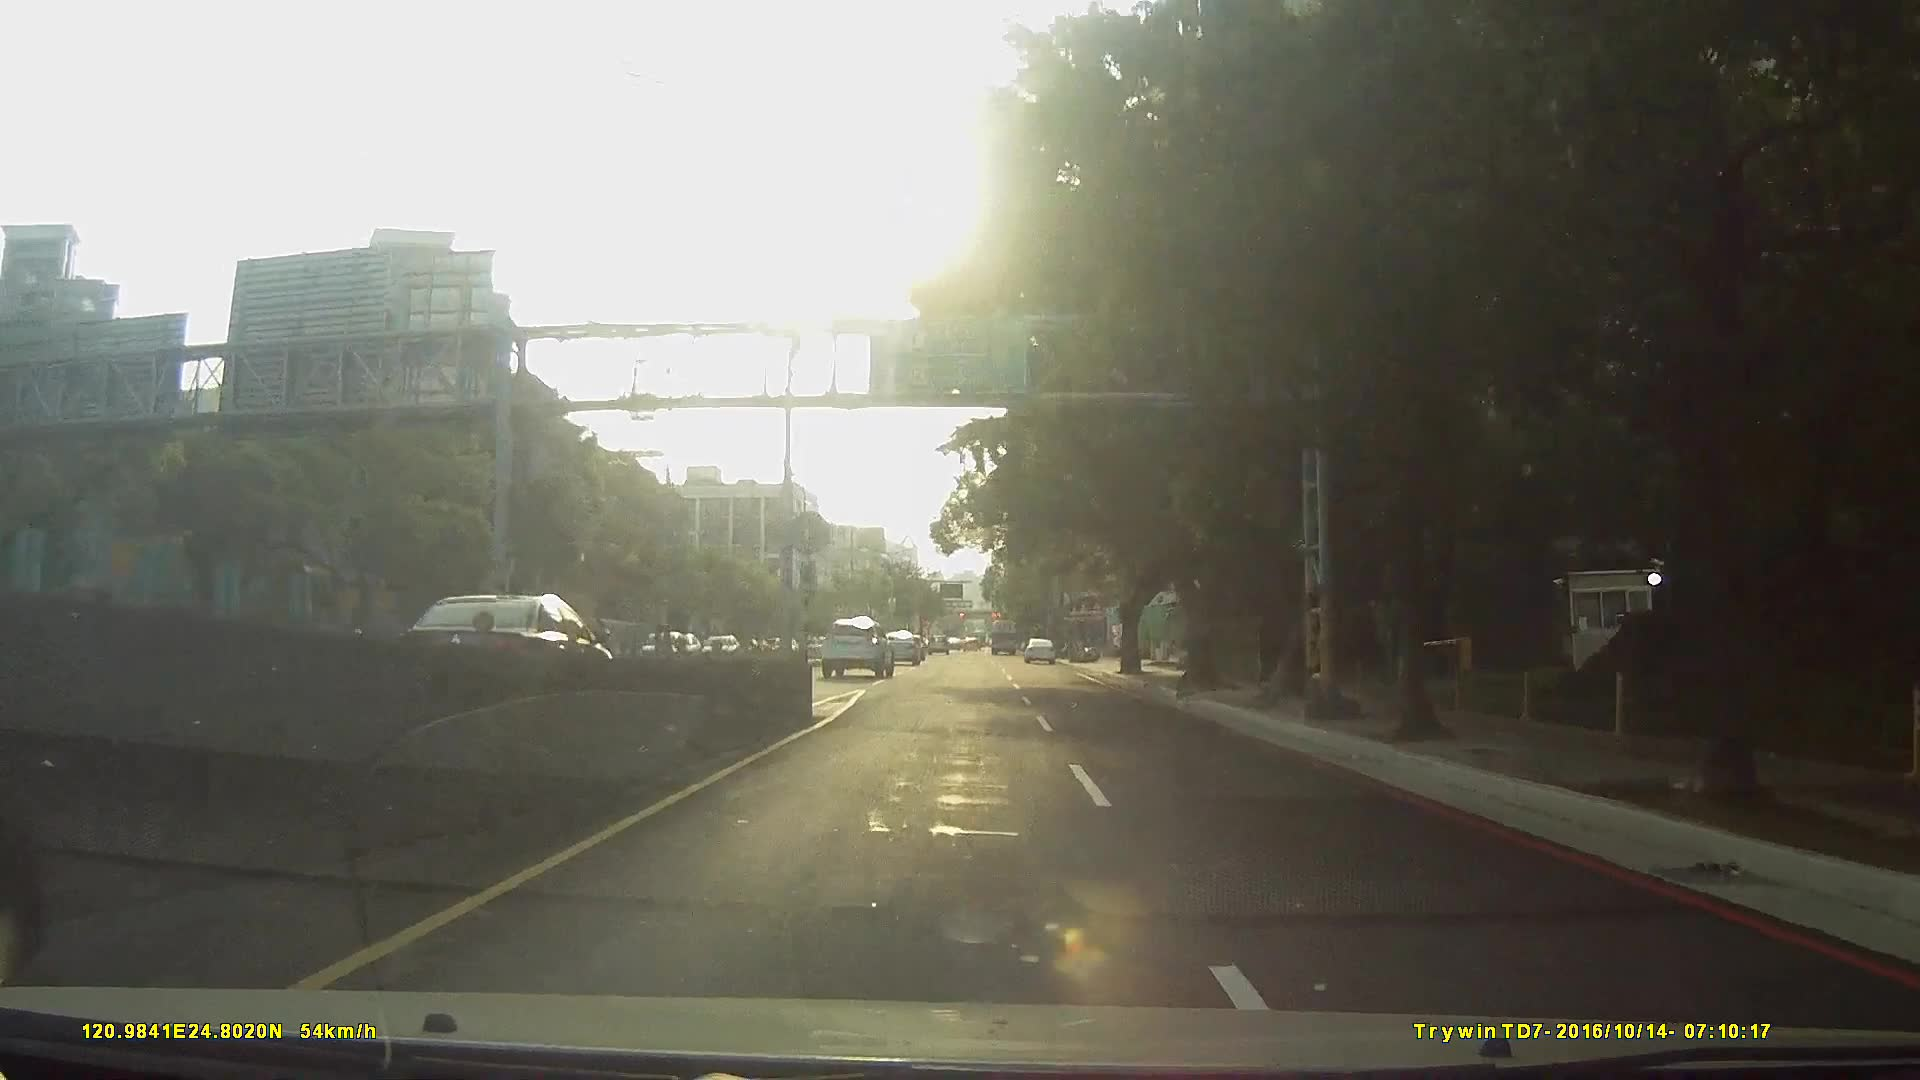vehicle: (822, 615, 894, 676), (878, 626, 922, 663), (986, 613, 1018, 651), (1021, 636, 1056, 663)
